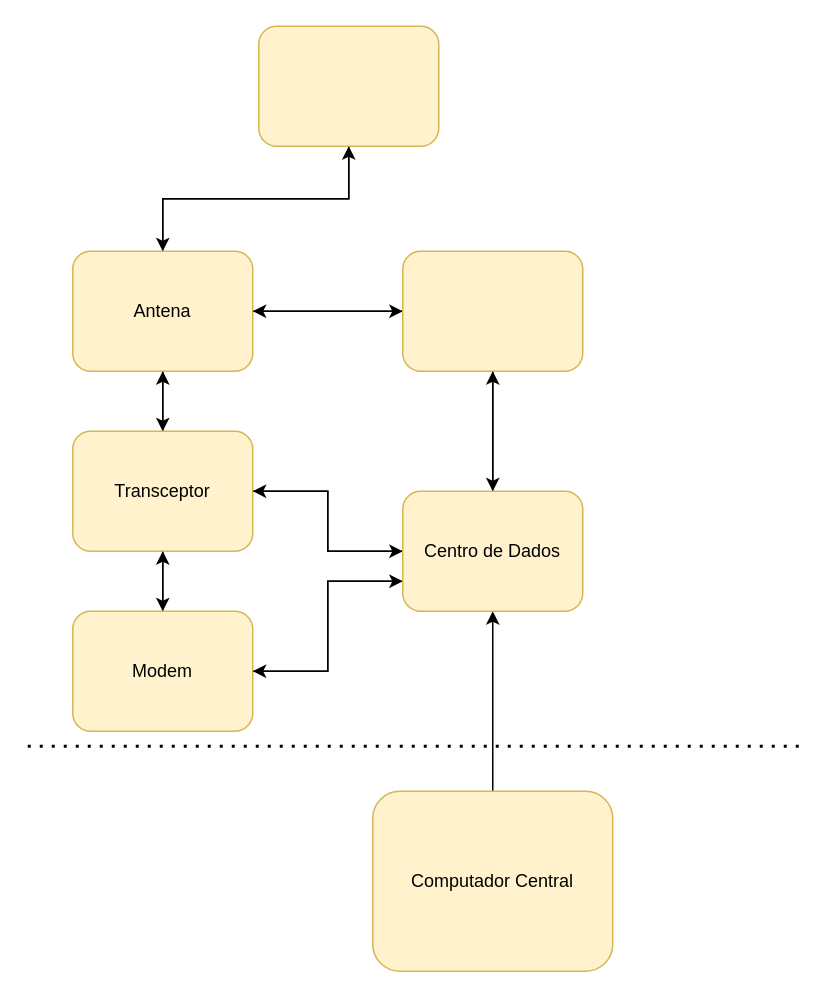
This 836x998 diagram has some shape labels left out. The shapes that lost their labels are listed below. From the top down, each one's box as (x1, y1, x2, y2) in pixels, then its label:
(257, 25, 439, 146): Satélite
(401, 250, 583, 371): Controle de Antena
